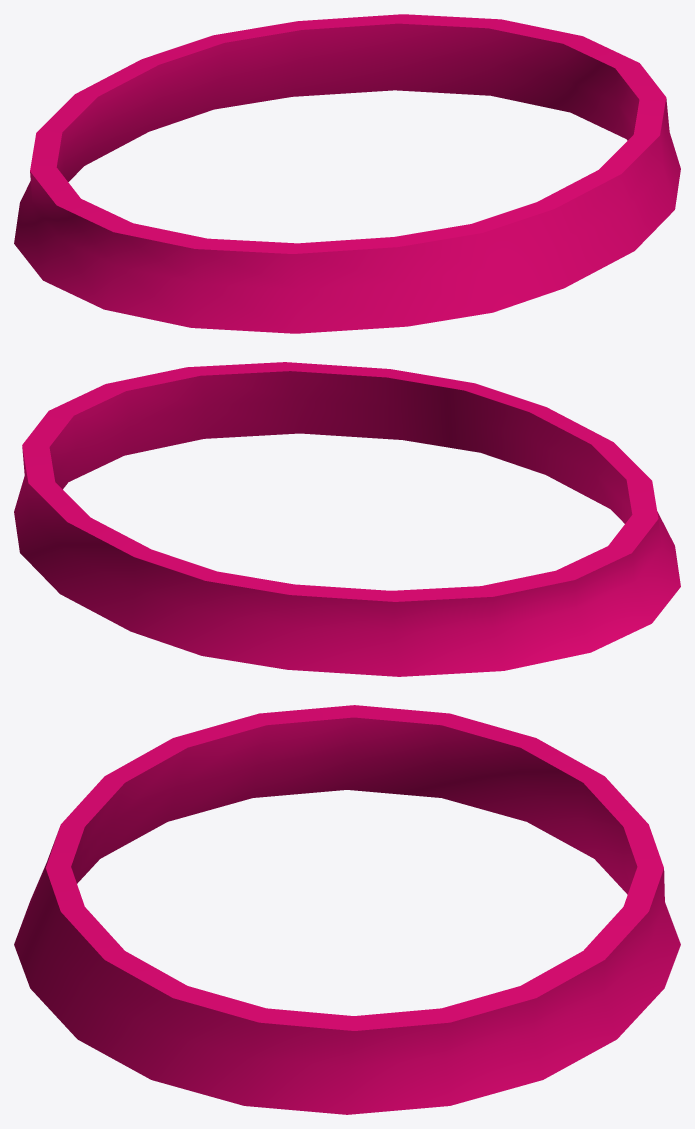
The model's file is thatLung.fbx.
3 views of the same model, one above another, from view 1: azimuth 30°, elevation 25°; view 2: azimuth 150°, elevation 25°; view 3: azimuth 270°, elevation 25° (orthographic). The views are drawn at different scales.
Visible parts, largest first — view 1: thatLung; view 2: thatLung; view 3: thatLung.
Part boxes in pixels (<box>): thatLung: <box>14,14,680,333</box>; thatLung: <box>14,362,680,676</box>; thatLung: <box>14,705,680,1114</box>.
Size of the model in its own units: 1.48 by 0.1641 by 1.23.
